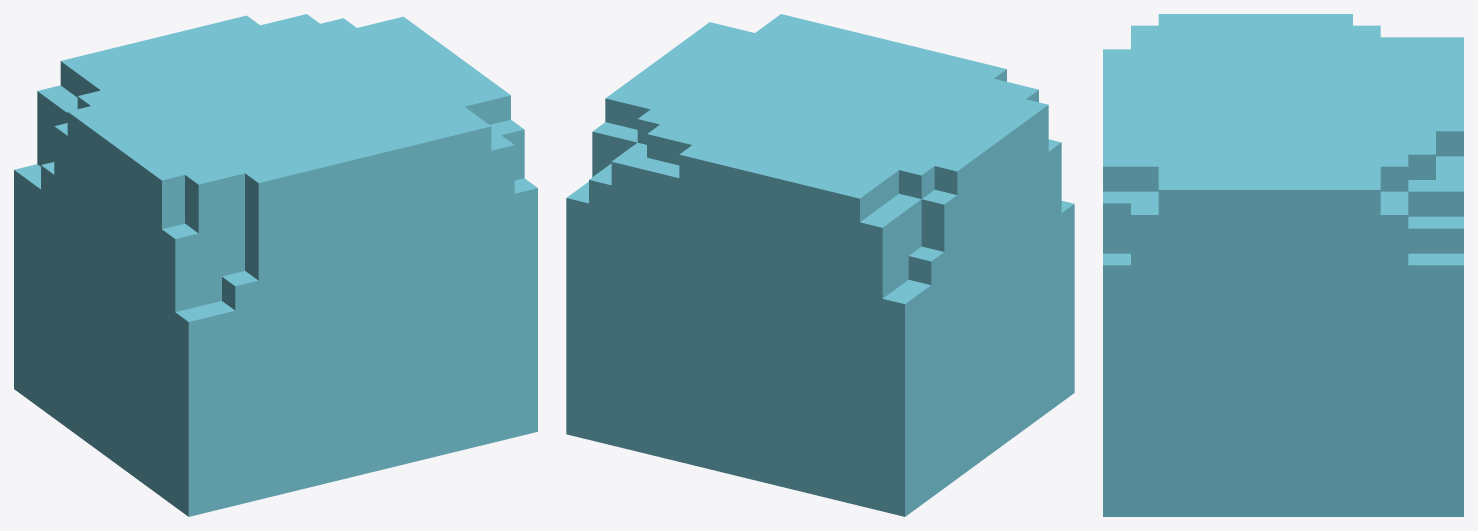
File: Ice cube.gltf
3 views of the same model, side by side, from view 1: azimuth 30°, elevation 25°; view 2: azimuth 150°, elevation 25°; view 3: azimuth 270°, elevation 25° (orthographic). The views are drawn at different scales.
Parts seen in each view (by area): view 1: Layer.1; view 2: Layer.1; view 3: Layer.1.
Boxes of the visible parts, x1,y1,x2,y2 form: Layer.1: (14, 14, 537, 516); Layer.1: (566, 14, 1074, 516); Layer.1: (1103, 14, 1463, 516).
Size of the model in its own units: 15 by 13 by 13.
1 material, 1 textured.
